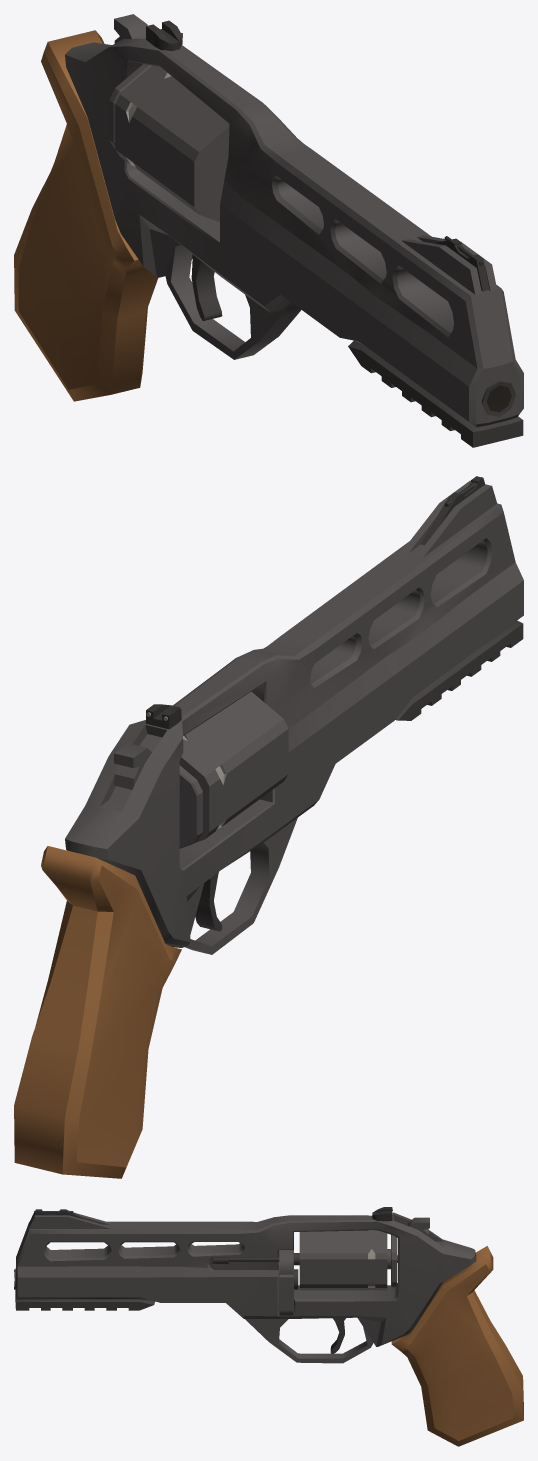
Rendered from Pistol.fbx.
The picture shows the model from 3 angles, top to bottom: view 1: azimuth 30°, elevation 25°; view 2: azimuth 150°, elevation 25°; view 3: azimuth 270°, elevation 25°; orthographic projection. The views are drawn at different scales.
Parts seen in each view (by area): view 1: Pistol; view 2: Pistol; view 3: Pistol.
Boxes of the visible parts, x1=… form: Pistol: x1=14, y1=14, x2=523, y2=447; Pistol: x1=14, y1=476, x2=523, y2=1178; Pistol: x1=14, y1=1207, x2=523, y2=1446.
Bounding box in the file's own units: 20.09 × 84.89 × 170.
